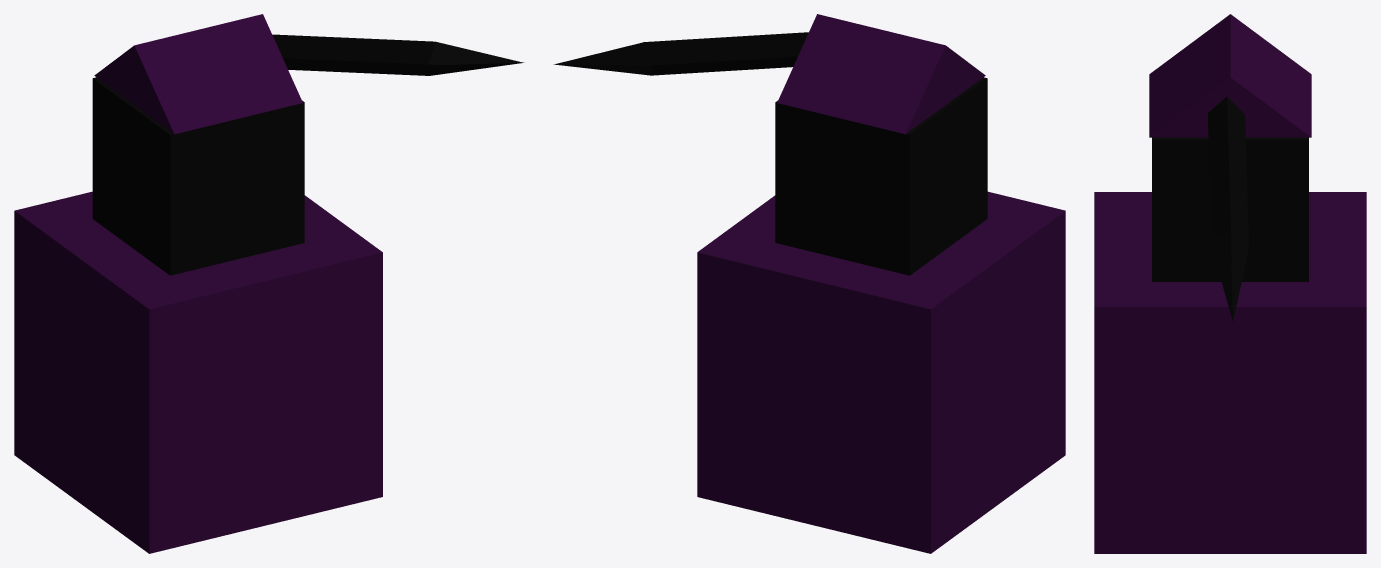
The model's file is protectiontower1.fbx.
3 views of the same model, side by side, from view 1: azimuth 30°, elevation 25°; view 2: azimuth 150°, elevation 25°; view 3: azimuth 270°, elevation 25° (orthographic).
Visible parts, largest first — view 1: Cylinder; view 2: Cylinder; view 3: Cylinder.
Part boxes in pixels (box(x1,y1,x2,y2)): Cylinder: box(14, 14, 524, 553); Cylinder: box(553, 14, 1065, 553); Cylinder: box(1094, 14, 1366, 553).
Size of the model in its own units: 1169 by 1123 by 615.
